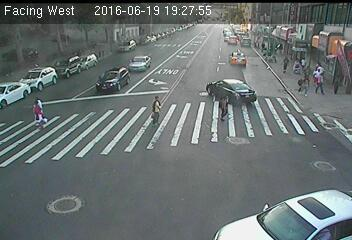neg: (232, 47, 245, 64), (240, 33, 250, 46)
pos: (144, 93, 169, 127), (27, 95, 48, 123), (213, 94, 234, 122), (310, 69, 330, 95), (27, 101, 45, 125), (298, 71, 316, 95), (277, 54, 293, 76), (312, 61, 326, 79), (292, 58, 303, 73), (299, 56, 309, 69)
